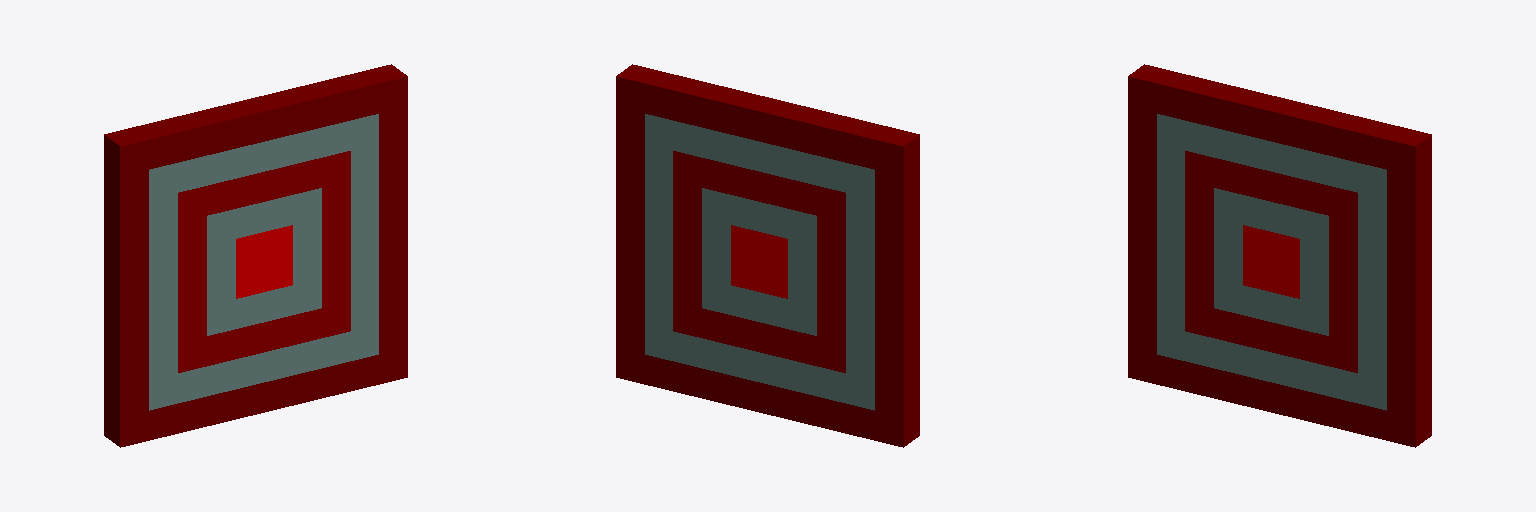
The picture shows the model from 3 angles: view 1: azimuth 30°, elevation 25°; view 2: azimuth 150°, elevation 25°; view 3: azimuth 330°, elevation 25°; orthographic projection.
Parts seen in each view (by area): view 1: object 1; view 2: object 1; view 3: object 1.
Part boxes in pixels (x1,y1,x2,y2): object 1: (104, 64, 407, 447); object 1: (616, 64, 919, 447); object 1: (1128, 64, 1431, 447).
Size of the model in its own units: 1 by 1 by 0.1.
1 materials, 1 textured.